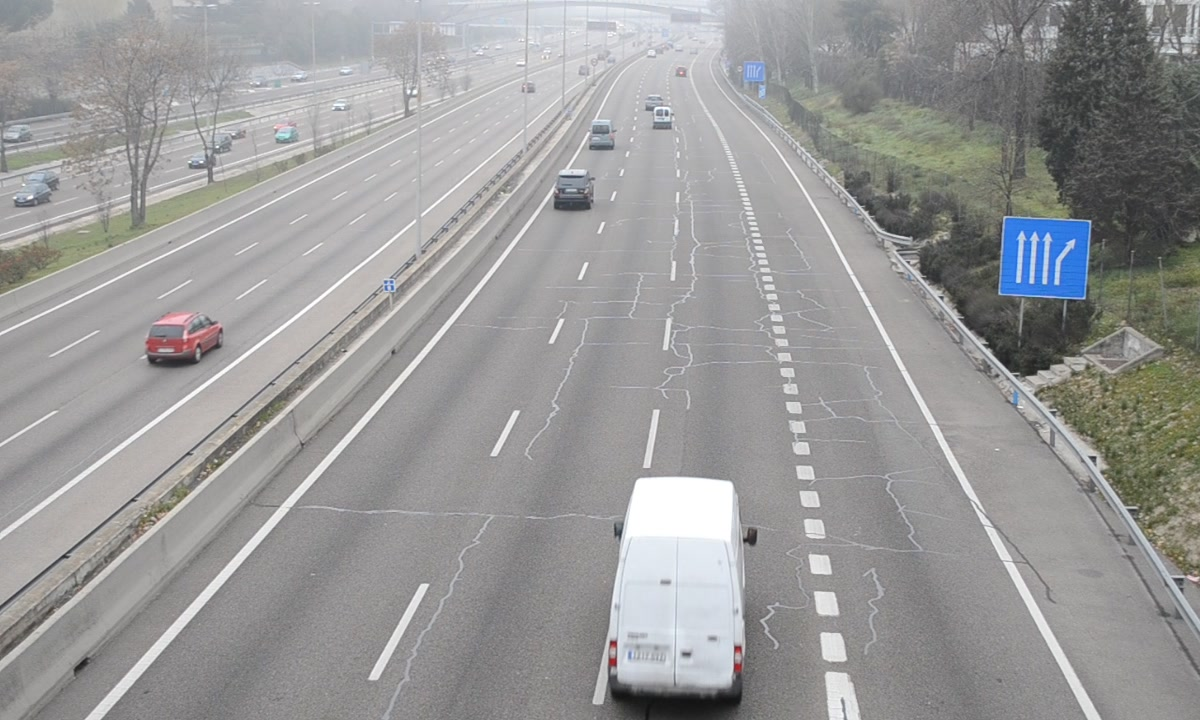car: (553, 170, 595, 208)
van: (606, 478, 747, 705), (587, 118, 612, 148)
